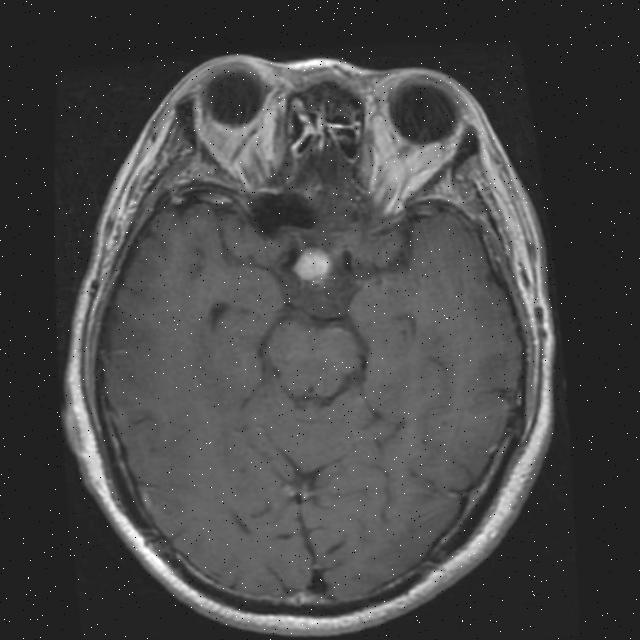Pituitary: (290, 244, 335, 288)
